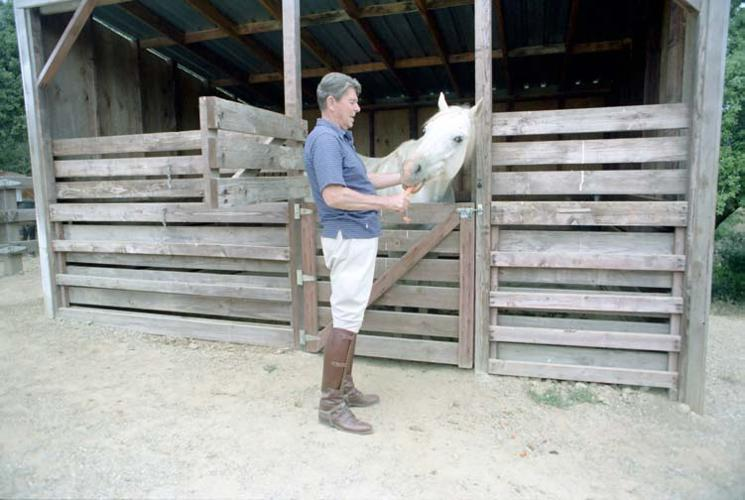person: (305, 72, 410, 436)
